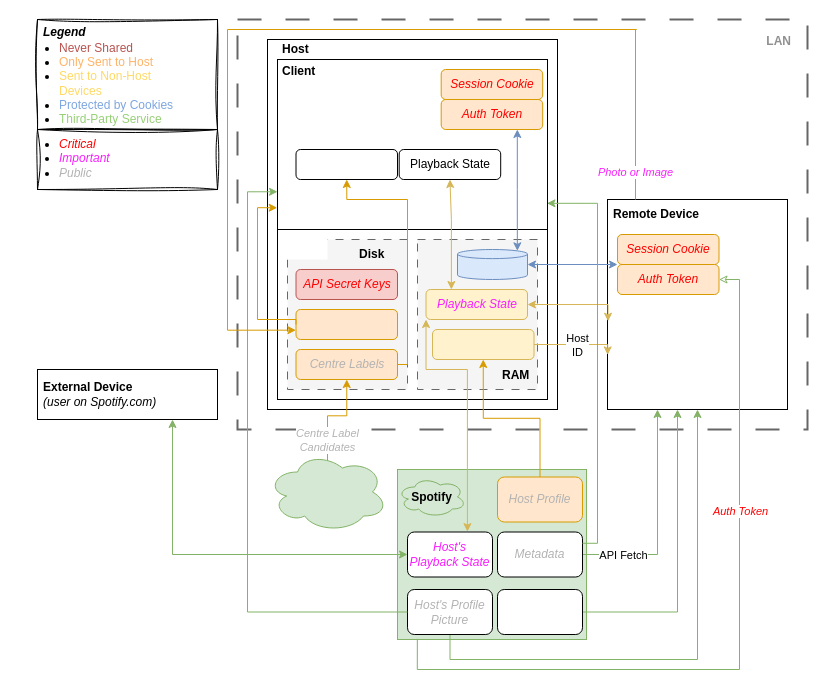
Some shapes in this 825 by 695 pixel diagram are drawn without their labels. The centre of each missing label's shape, as x and y in pixels:
"Auth Tokens" goes at [492,264].
"Centre Label" goes at [346,164].
"Discogs" goes at [327,491].
"Host ID & Playlist ID" goes at [483,344].
"Most Recent Scan" goes at [346,324].
"Server" goes at [303,245].
"User's Profile Picture" goes at [539,611].
